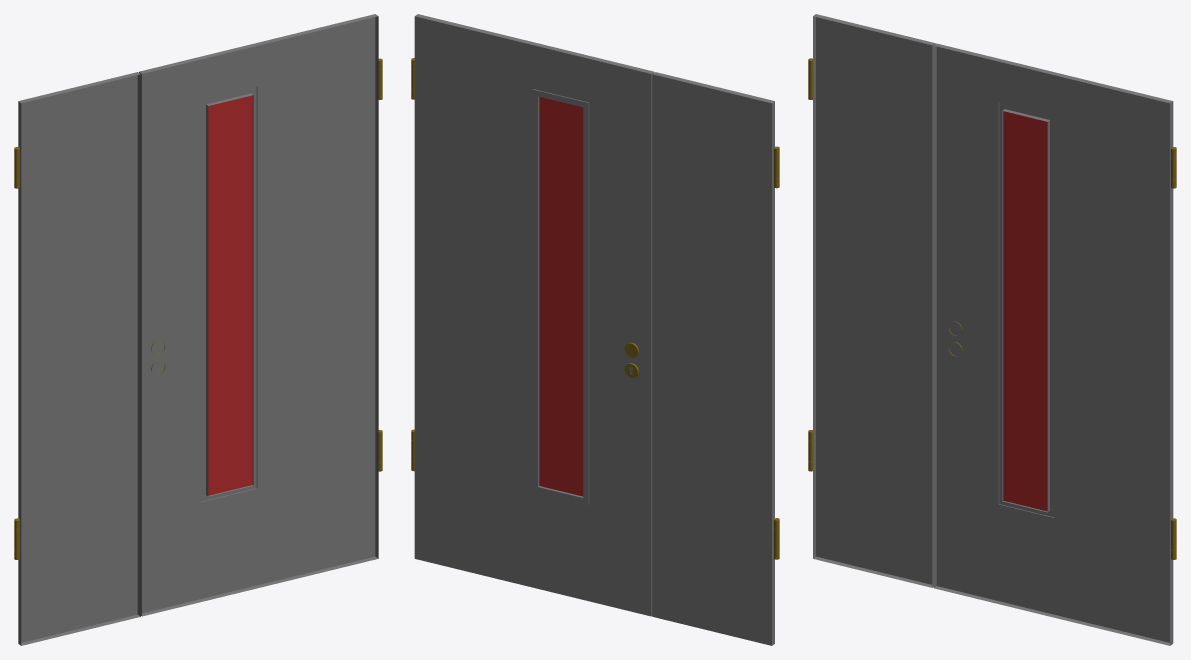
The model's file is SM_Door_01.fbx.
The picture shows the model from 3 angles, left to right: view 1: azimuth 30°, elevation 25°; view 2: azimuth 150°, elevation 25°; view 3: azimuth 330°, elevation 25°; orthographic projection.
Parts seen in each view (by area): view 1: SM_Door_01; view 2: SM_Door_01; view 3: SM_Door_01.
Boxes of the visible parts, left/top/right/bottom form: SM_Door_01: left=14, top=14, right=382, bottom=645; SM_Door_01: left=411, top=14, right=779, bottom=645; SM_Door_01: left=808, top=14, right=1176, bottom=645.
Size of the model in its own units: 153 by 216 by 3.1.
